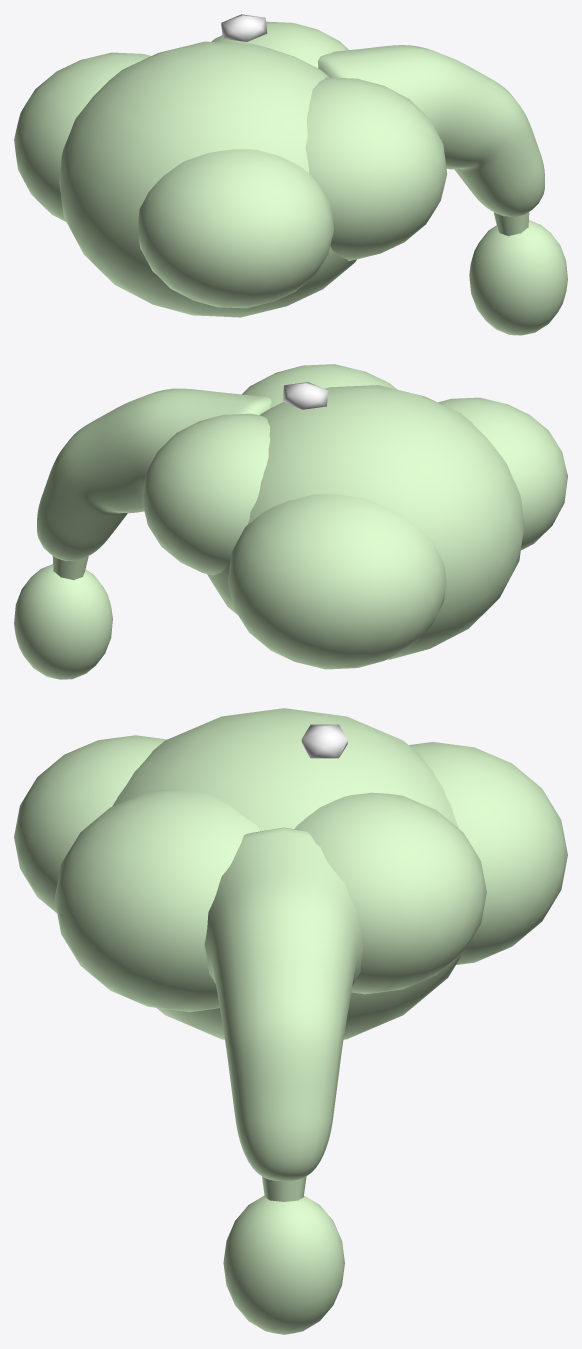
File: cell.slimegland.glb
The picture shows the model from 3 angles, top to bottom: view 1: azimuth 30°, elevation 25°; view 2: azimuth 150°, elevation 25°; view 3: azimuth 270°, elevation 25°; orthographic projection. The views are drawn at different scales.
Parts seen in each view (by area): view 1: Slime, Glint; view 2: Slime, Glint; view 3: Slime, Glint.
Part boxes in pixels (x1,y1,x2,y2): Slime: (14, 21, 567, 335); Glint: (221, 14, 267, 41); Slime: (14, 364, 567, 679); Glint: (282, 382, 328, 409); Slime: (14, 708, 567, 1334); Glint: (301, 724, 347, 758).
Bounding box in the file's own units: 0.505 × 0.367 × 0.41.
